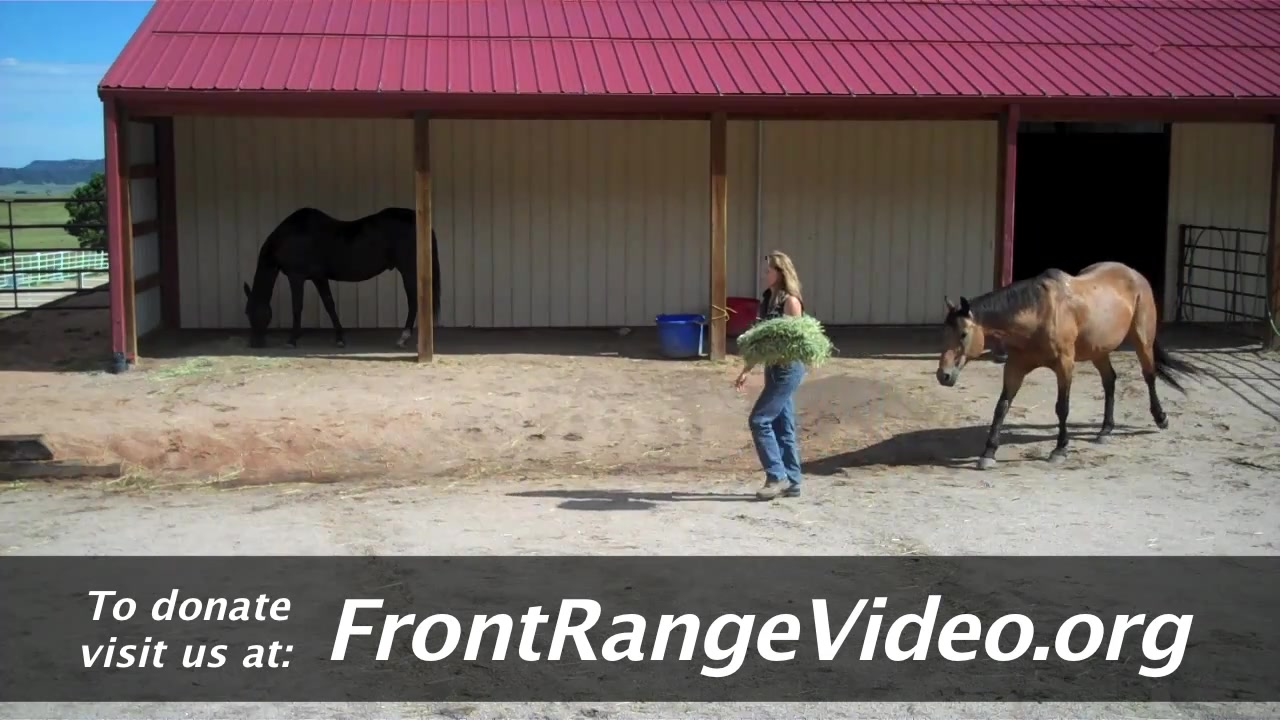horse: (936, 260, 1204, 472), (234, 204, 447, 354)
